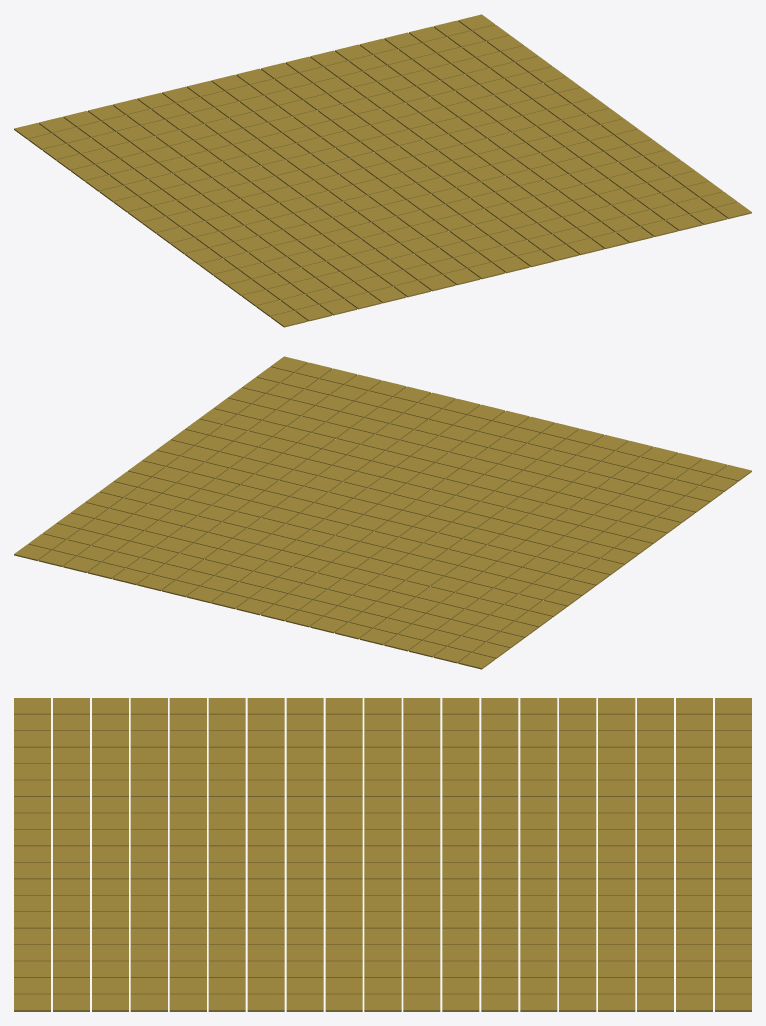
3 renders of one model, top to bottom at view 1: azimuth 30°, elevation 25°; view 2: azimuth 150°, elevation 25°; view 3: azimuth 270°, elevation 25°, orthographic. The views are drawn at different scales.
Parts seen in each view (by area): view 1: 立方體; view 2: 立方體; view 3: 立方體.
Part boxes in pixels (x1,y1,x2,y2): 立方體: (14,14,751,327); 立方體: (14,356,751,669); 立方體: (14,698,751,1011).
Size of the model in its own units: 1890 by 5.06 by 1890.
